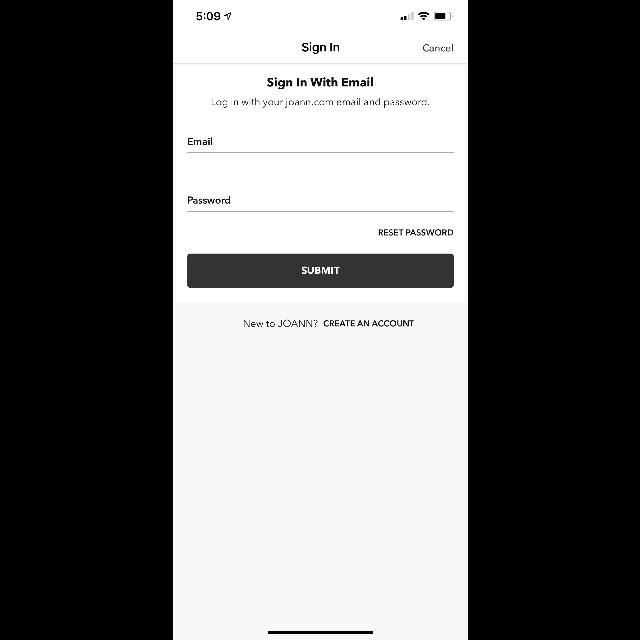input: (186, 196, 454, 212), (186, 138, 454, 152)
text: (211, 98, 429, 108), (267, 77, 373, 89), (322, 320, 413, 328), (378, 229, 452, 237), (243, 319, 317, 326), (302, 42, 338, 54), (187, 196, 229, 204), (422, 44, 452, 52), (187, 138, 211, 144)
textbutton: (186, 254, 454, 288)
uppertaskbar: (196, 12, 452, 21)
